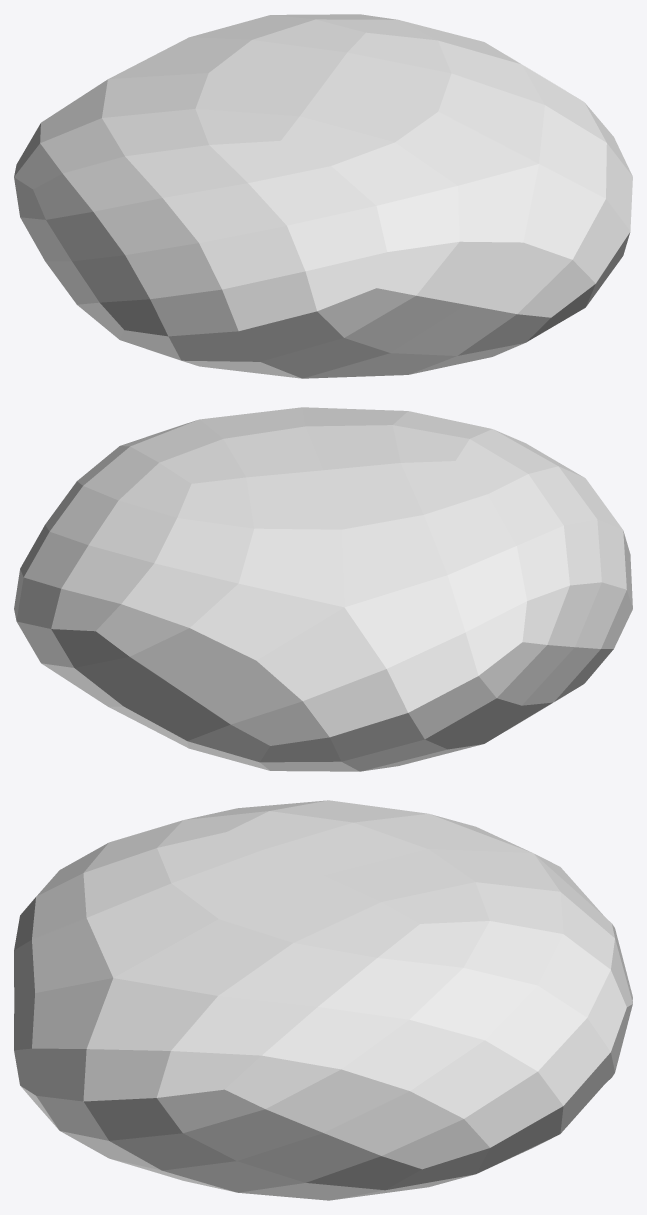
Rendered from Siromoti.obj.
3 renders of one model, top to bottom at view 1: azimuth 30°, elevation 25°; view 2: azimuth 150°, elevation 25°; view 3: azimuth 270°, elevation 25°, orthographic. The views are drawn at different scales.
Parts seen in each view (by area): view 1: 立方体; view 2: 立方体; view 3: 立方体.
Boxes of the visible parts, left/top/right/bottom form: 立方体: left=14, top=14, right=632, bottom=378; 立方体: left=14, top=407, right=632, bottom=771; 立方体: left=14, top=800, right=632, bottom=1200.
Bounding box in the file's own units: 2.18 × 0.9588 × 2.15.
1 material, 1 textured.
